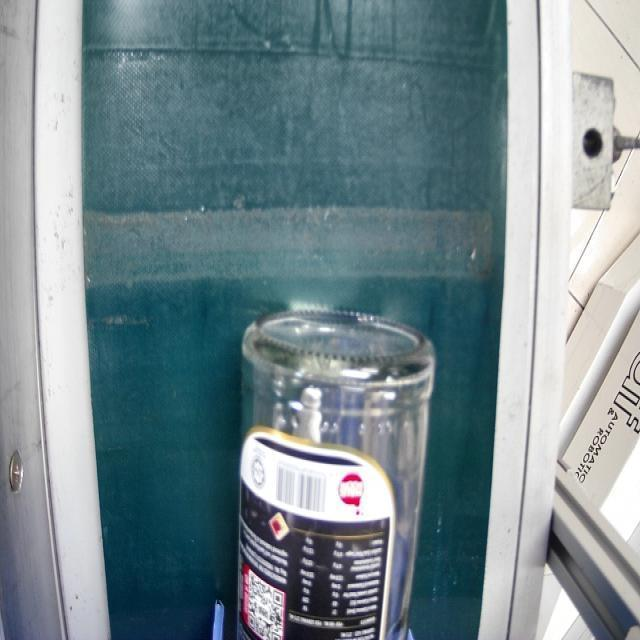BotolKaca: (233, 306, 436, 638)
